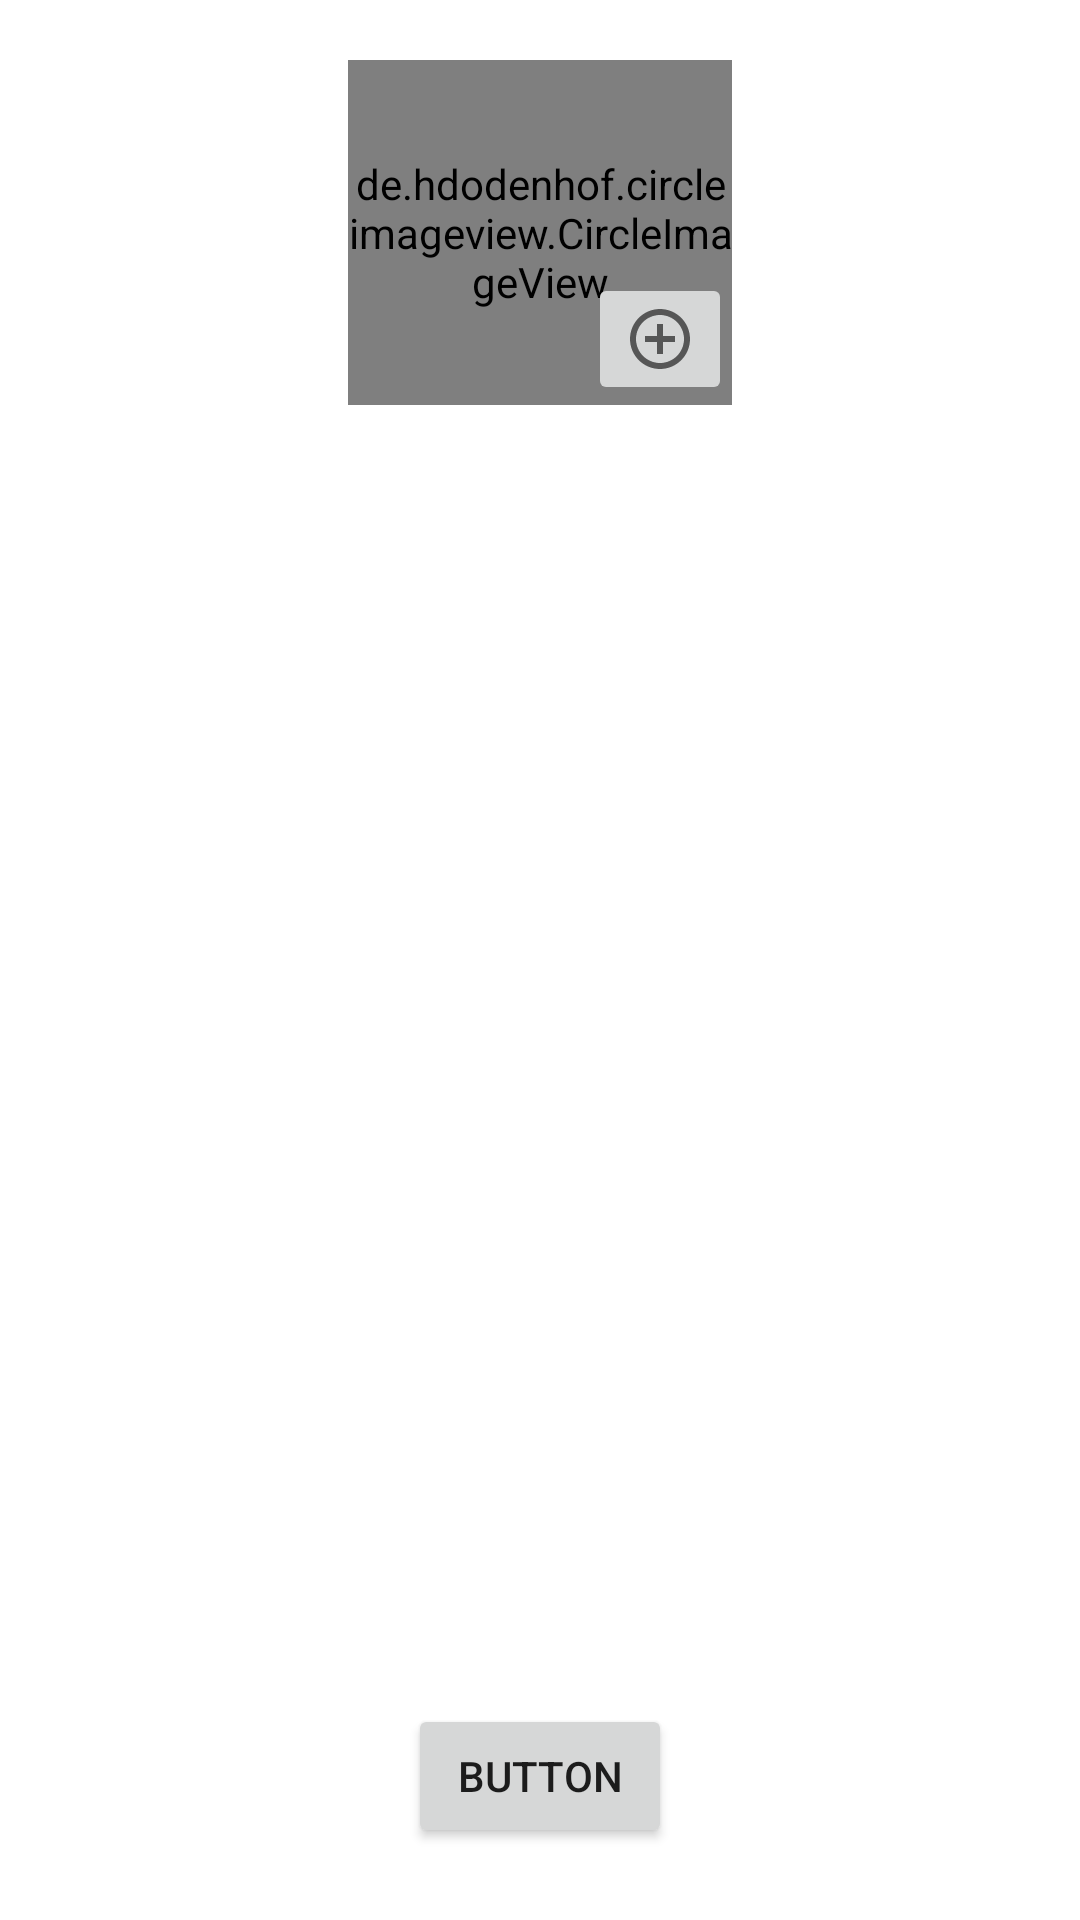

Locate icon controls on the screen. Image size 1080px×1920px, boxes as bbox=[x1, y1, x2, y2].
control point: bbox=[588, 275, 720, 387]
